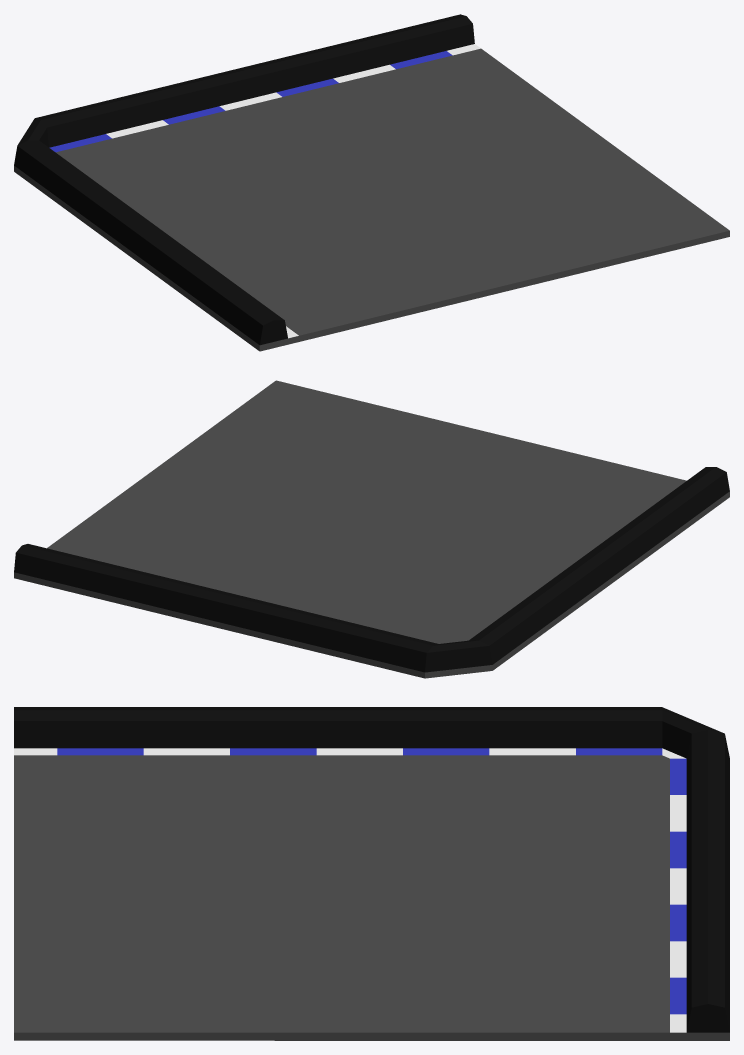
Rendered from outer_corner_wide.obj.
3 renders of one model, top to bottom at view 1: azimuth 30°, elevation 25°; view 2: azimuth 150°, elevation 25°; view 3: azimuth 270°, elevation 25°, orthographic. The views are drawn at different scales.
Visible parts, largest first — view 1: OuterCorner_Plane.008; view 2: OuterCorner_Plane.008; view 3: OuterCorner_Plane.008.
Boxes of the visible parts, bbox=[...] form: OuterCorner_Plane.008: bbox=[14, 14, 729, 351]; OuterCorner_Plane.008: bbox=[14, 380, 729, 678]; OuterCorner_Plane.008: bbox=[14, 707, 729, 1040].
Bounding box in the file's own units: 16.57 × 0.9427 × 16.57.
